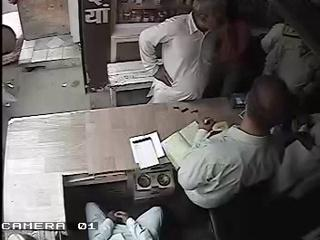Normal: (176, 74, 296, 238), (138, 0, 229, 104), (85, 202, 164, 240)
